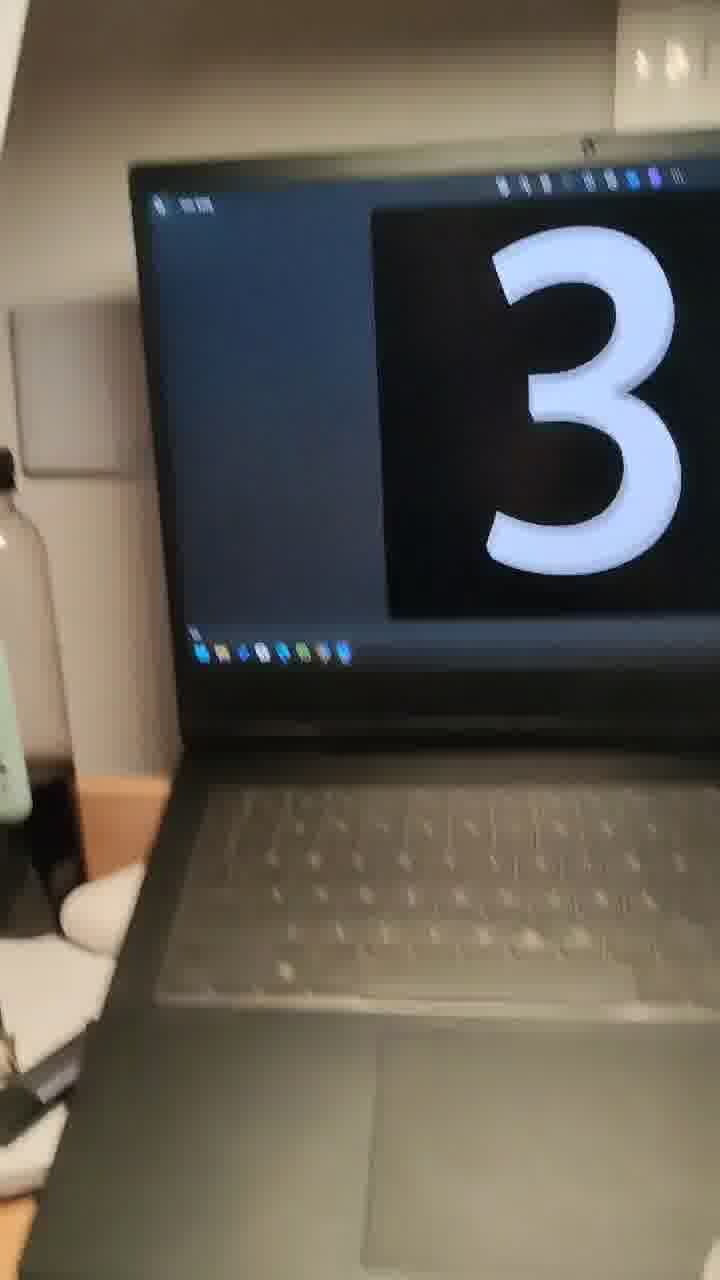three: (415, 176, 710, 631)
